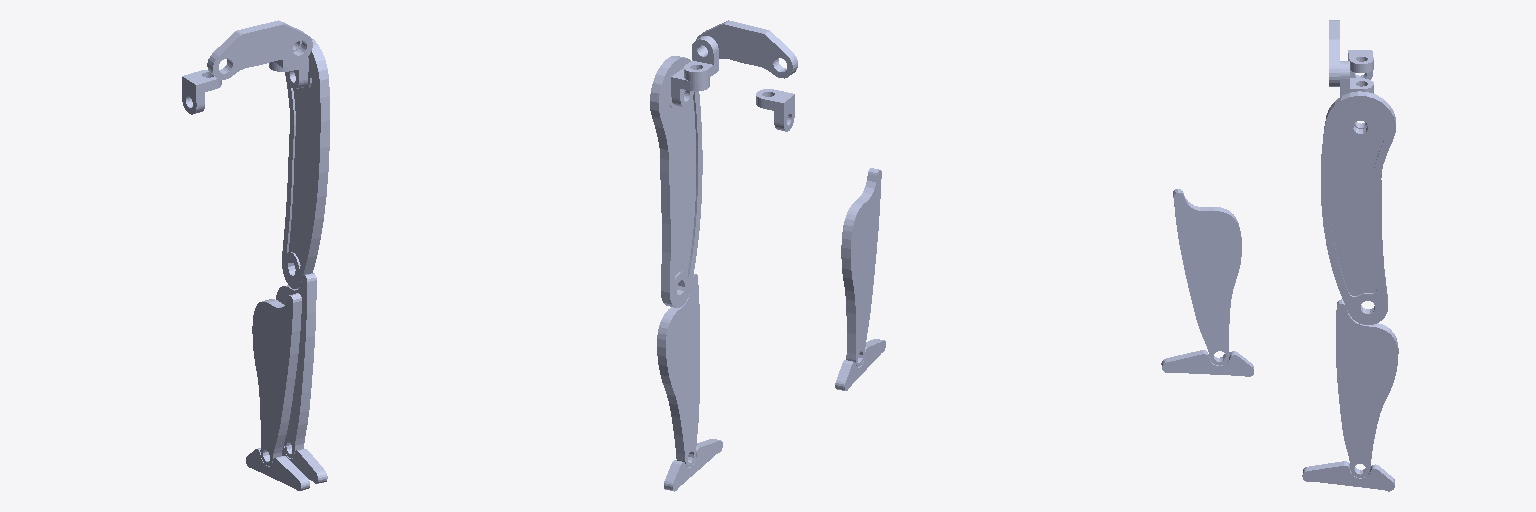
robot.urdf — bassie.SLDASM:
<?xml version="1.0" encoding="utf-8"?>
<!-- This URDF was automatically created by SolidWorks to URDF Exporter! Originally created by [author] ([email redacted]) 
     Commit Version: 1.6.0-4-g7f85cfe  Build Version: 1.6.7995.38578
     For more information, please see http://wiki.ros.org/sw_urdf_exporter -->
<robot
  name="bassie.SLDASM">
  <link
    name="pelvis">
    <inertial>
      <origin
        xyz="-8.71510553850297E-19 -0.005 -0.00141371227400464"
        rpy="0 0 0" />
      <mass
        value="0.0303722995490468" />
      <inertia
        ixx="3.74394993207704E-06"
        ixy="5.11178856466256E-23"
        ixz="7.80799469685778E-22"
        iyy="2.49329673185659E-05"
        iyz="-1.54583766458099E-22"
        izz="2.1695222378973E-05" />
    </inertial>
    <visual>
      <origin
        xyz="0 0 0"
        rpy="0 0 0" />
      <geometry>
        <mesh
          filename="package://bassie.SLDASM/meshes/pelvis.STL" />
      </geometry>
      <material
        name="">
        <color
          rgba="0.792156862745098 0.819607843137255 0.933333333333333 1" />
      </material>
    </visual>
    <collision>
      <origin
        xyz="0 0 0"
        rpy="0 0 0" />
      <geometry>
        <mesh
          filename="package://bassie.SLDASM/meshes/pelvis.STL" />
      </geometry>
    </collision>
  </link>
  <link
    name="right_hip_a">
    <inertial>
      <origin
        xyz="0 -0.0110100876761759 -0.0109899123238241"
        rpy="0 0 0" />
      <mass
        value="0.0104219467105846" />
      <inertia
        ixx="1.70463571115033E-06"
        ixy="-3.68095372586097E-23"
        ixz="-2.34505703658783E-22"
        iyy="1.38650049834199E-06"
        iyz="-3.73929543448507E-07"
        izz="1.386500498342E-06" />
    </inertial>
    <visual>
      <origin
        xyz="0 0 0"
        rpy="0 0 0" />
      <geometry>
        <mesh
          filename="package://bassie.SLDASM/meshes/right_hip_a.STL" />
      </geometry>
      <material
        name="">
        <color
          rgba="0.792156862745098 0.819607843137255 0.933333333333333 1" />
      </material>
    </visual>
    <collision>
      <origin
        xyz="0 0 0"
        rpy="0 0 0" />
      <geometry>
        <mesh
          filename="package://bassie.SLDASM/meshes/right_hip_a.STL" />
      </geometry>
    </collision>
  </link>
  <joint
    name="right_hip_roll"
    type="revolute">
    <origin
      xyz="-0.0398271658880066 0 -0.00930710361371741"
      rpy="1.5707963267949 -0.00503265783860925 0" />
    <parent
      link="pelvis" />
    <child
      link="right_hip_a" />
    <axis
      xyz="0 0 1" />
    <limit
      lower="-1"
      upper="1"
      effort="100"
      velocity="100" />
  </joint>
  <link
    name="right_hip_b">
    <inertial>
      <origin
        xyz="6.93889390390723E-18 -0.0110100876761759 -0.010989051191167"
        rpy="0 0 0" />
      <mass
        value="0.0104219467105846" />
      <inertia
        ixx="1.70463571115033E-06"
        ixy="-1.45583787809333E-22"
        ixz="-9.53271488868967E-23"
        iyy="1.38650049834199E-06"
        iyz="-3.73929543448507E-07"
        izz="1.386500498342E-06" />
    </inertial>
    <visual>
      <origin
        xyz="0 0 0"
        rpy="0 0 0" />
      <geometry>
        <mesh
          filename="package://bassie.SLDASM/meshes/right_hip_b.STL" />
      </geometry>
      <material
        name="">
        <color
          rgba="0.792156862745098 0.819607843137255 0.933333333333333 1" />
      </material>
    </visual>
    <collision>
      <origin
        xyz="0 0 0"
        rpy="0 0 0" />
      <geometry>
        <mesh
          filename="package://bassie.SLDASM/meshes/right_hip_b.STL" />
      </geometry>
    </collision>
  </link>
  <joint
    name="right_hip_pitch"
    type="revolute">
    <origin
      xyz="0 -0.0220008611326573 -0.0219999999999999"
      rpy="-1.57079632679503 -1.49330843492653 0" />
    <parent
      link="right_hip_a" />
    <child
      link="right_hip_b" />
    <axis
      xyz="0 0 1" />
    <limit
      lower="-1"
      upper="1"
      effort="100"
      velocity="100" />
  </joint>
  <link
    name="right_upper_leg">
    <inertial>
      <origin
        xyz="-0.00592586158781309 -0.0525800795674847 0.0617044572537044"
        rpy="0 0 0" />
      <mass
        value="0.107018899099017" />
      <inertia
        ixx="0.00059179926724669"
        ixy="1.59874782272895E-08"
        ixz="-1.27083232085629E-08"
        iyy="0.000308153017538767"
        iyz="0.000258492128476062"
        izz="0.000284954745396214" />
    </inertial>
    <visual>
      <origin
        xyz="0 0 0"
        rpy="0 0 0" />
      <geometry>
        <mesh
          filename="package://bassie.SLDASM/meshes/right_upper_leg.STL" />
      </geometry>
      <material
        name="">
        <color
          rgba="0.792156862745098 0.819607843137255 0.933333333333333 1" />
      </material>
    </visual>
    <collision>
      <origin
        xyz="0 0 0"
        rpy="0 0 0" />
      <geometry>
        <mesh
          filename="package://bassie.SLDASM/meshes/right_upper_leg.STL" />
      </geometry>
    </collision>
  </link>
  <joint
    name="right_hip_yaw"
    type="revolute">
    <origin
      xyz="0 -0.0210679578739459 -0.0219991388673428"
      rpy="1.47617469063059 0 1.5707963267949" />
    <parent
      link="right_hip_b" />
    <child
      link="right_upper_leg" />
    <axis
      xyz="1 0 0" />
    <limit
      lower="-2"
      upper="2"
      effort="100"
      velocity="100" />
  </joint>
  <link
    name="right_lower_leg">
    <inertial>
      <origin
        xyz="-0.00593203877881651 -0.084602786670183 0.00168892856089956"
        rpy="0 0 0" />
      <mass
        value="0.0744483044847864" />
      <inertia
        ixx="0.000164660010918706"
        ixy="-4.61372645241211E-12"
        ixz="1.49207452474512E-11"
        iyy="1.77016873193822E-05"
        iyz="-3.96688103484342E-06"
        izz="0.000148199128403157" />
    </inertial>
    <visual>
      <origin
        xyz="0 0 0"
        rpy="0 0 0" />
      <geometry>
        <mesh
          filename="package://bassie.SLDASM/meshes/right_lower_leg.STL" />
      </geometry>
      <material
        name="">
        <color
          rgba="0.792156862745098 0.819607843137255 0.933333333333333 1" />
      </material>
    </visual>
    <collision>
      <origin
        xyz="0 0 0"
        rpy="0 0 0" />
      <geometry>
        <mesh
          filename="package://bassie.SLDASM/meshes/right_lower_leg.STL" />
      </geometry>
    </collision>
  </link>
  <joint
    name="right_knee"
    type="revolute">
    <origin
      xyz="0 -0.14142135623731 0.141421356237308"
      rpy="0.177493987253612 0 0" />
    <parent
      link="right_upper_leg" />
    <child
      link="right_lower_leg" />
    <axis
      xyz="1 0 0" />
    <limit
      lower="-2"
      upper="2"
      effort="100"
      velocity="100" />
  </joint>
  <link
    name="right_foot">
    <inertial>
      <origin
        xyz="-0.00593204212605349 -0.0117377956787896 0.00934592910539234"
        rpy="0 0 0" />
      <mass
        value="0.0141163998019807" />
      <inertia
        ixx="9.24279911044944E-06"
        ixy="-1.02570395956575E-22"
        ixz="-7.53396101913298E-21"
        iyy="8.95233915878566E-06"
        iyz="1.01243243186786E-07"
        izz="5.25733281696791E-07" />
    </inertial>
    <visual>
      <origin
        xyz="0 0 0"
        rpy="0 0 0" />
      <geometry>
        <mesh
          filename="package://bassie.SLDASM/meshes/right_foot.STL" />
      </geometry>
      <material
        name="">
        <color
          rgba="0.792156862745098 0.819607843137255 0.933333333333333 1" />
      </material>
    </visual>
    <collision>
      <origin
        xyz="0 0 0"
        rpy="0 0 0" />
      <geometry>
        <mesh
          filename="package://bassie.SLDASM/meshes/right_foot.STL" />
      </geometry>
    </collision>
  </link>
  <joint
    name="right_ankle"
    type="revolute">
    <origin
      xyz="0 -0.18 0"
      rpy="-0.17083 0 0" />
    <parent
      link="right_lower_leg" />
    <child
      link="right_foot" />
    <axis
      xyz="1 0 0" />
    <limit
      lower="-2"
      upper="2"
      effort="100"
      velocity="100" />
  </joint>
  <link
    name="left_hip_a">
    <inertial>
      <origin
        xyz="-6.93889390390723E-17 -0.0110100876761757 -0.0109899123238245"
        rpy="0 0 0" />
      <mass
        value="0.0104219467105846" />
      <inertia
        ixx="1.70463571115033E-06"
        ixy="-2.90505831128623E-21"
        ixz="-2.52124650706163E-21"
        iyy="1.386500498342E-06"
        iyz="-3.73929543448508E-07"
        izz="1.386500498342E-06" />
    </inertial>
    <visual>
      <origin
        xyz="0 0 0"
        rpy="0 0 0" />
      <geometry>
        <mesh
          filename="package://bassie.SLDASM/meshes/left_hip_a.STL" />
      </geometry>
      <material
        name="">
        <color
          rgba="0.792156862745098 0.819607843137255 0.933333333333333 1" />
      </material>
    </visual>
    <collision>
      <origin
        xyz="0 0 0"
        rpy="0 0 0" />
      <geometry>
        <mesh
          filename="package://bassie.SLDASM/meshes/left_hip_a.STL" />
      </geometry>
    </collision>
  </link>
  <joint
    name="left_hip_roll"
    type="revolute">
    <origin
      xyz="0.0398271658880066 0 -0.0093071036137174"
      rpy="1.5707963267949 0.0363921544175496 0" />
    <parent
      link="pelvis" />
    <child
      link="left_hip_a" />
    <axis
      xyz="0 0 1" />
    <limit
      lower="-1"
      upper="1"
      effort="100"
      velocity="100" />
  </joint>
  <link
    name="left_hip_b">
    <inertial>
      <origin
        xyz="4.5102810375397E-17 -0.0110100876761759 -0.012256176562566"
        rpy="0 0 0" />
      <mass
        value="0.0104219467105846" />
      <inertia
        ixx="1.70463571115033E-06"
        ixy="-2.94476298068878E-22"
        ixz="-4.40212329912787E-22"
        iyy="1.386500498342E-06"
        iyz="-3.73929543448508E-07"
        izz="1.386500498342E-06" />
    </inertial>
    <visual>
      <origin
        xyz="0 0 0"
        rpy="0 0 0" />
      <geometry>
        <mesh
          filename="package://bassie.SLDASM/meshes/left_hip_b.STL" />
      </geometry>
      <material
        name="">
        <color
          rgba="0.792156862745098 0.819607843137255 0.933333333333333 1" />
      </material>
    </visual>
    <collision>
      <origin
        xyz="0 0 0"
        rpy="0 0 0" />
      <geometry>
        <mesh
          filename="package://bassie.SLDASM/meshes/left_hip_b.STL" />
      </geometry>
    </collision>
  </link>
  <joint
    name="left_hip_pitch"
    type="revolute">
    <origin
      xyz="0 -0.020733735761258 -0.0220000000000004"
      rpy="-1.57079632679482 1.53550175224418 0" />
    <parent
      link="left_hip_a" />
    <child
      link="left_hip_b" />
    <axis
      xyz="0 0 1" />
    <limit
      lower="-1"
      upper="1"
      effort="100"
      velocity="100" />
  </joint>
  <link
    name="left_upper_leg">
    <inertial>
      <origin
        xyz="0.00992113926367044 -0.052576667884697 0.0616946676041554"
        rpy="0 0 0" />
      <mass
        value="0.107042315965997" />
      <inertia
        ixx="0.000591805368935049"
        ixy="1.62243521030409E-08"
        ixz="-1.28844984492373E-08"
        iyy="0.000308162853350037"
        iyz="0.000258499935393855"
        izz="0.000284951019517356" />
    </inertial>
    <visual>
      <origin
        xyz="0 0 0"
        rpy="0 0 0" />
      <geometry>
        <mesh
          filename="package://bassie.SLDASM/meshes/left_upper_leg.STL" />
      </geometry>
      <material
        name="">
        <color
          rgba="0.792156862745098 0.819607843137255 0.933333333333333 1" />
      </material>
    </visual>
    <collision>
      <origin
        xyz="0 0 0"
        rpy="0 0 0" />
      <geometry>
        <mesh
          filename="package://bassie.SLDASM/meshes/left_upper_leg.STL" />
      </geometry>
    </collision>
  </link>
  <joint
    name="left_hip_yaw"
    type="revolute">
    <origin
      xyz="0 -0.0170842012602752 -0.0232662642387418"
      rpy="2.39179817705173 0 -1.5707963267949" />
    <parent
      link="left_hip_b" />
    <child
      link="left_upper_leg" />
    <axis
      xyz="1 0 0" />
    <limit
      lower="-2"
      upper="2"
      effort="100"
      velocity="100" />
  </joint>
  <link
    name="left_lower_leg">
    <inertial>
      <origin
        xyz="0.00991580198399055 -0.0846028137555248 0.00168890478392084"
        rpy="0 0 0" />
      <mass
        value="0.0744483650191621" />
      <inertia
        ixx="0.000164651177342366"
        ixy="-1.45541977598533E-11"
        ixz="1.67295198779219E-11"
        iyy="1.77024289130364E-05"
        iyz="-3.96427641840745E-06"
        izz="0.000148189551457772" />
    </inertial>
    <visual>
      <origin
        xyz="0 0 0"
        rpy="0 0 0" />
      <geometry>
        <mesh
          filename="package://bassie.SLDASM/meshes/left_lower_leg.STL" />
      </geometry>
      <material
        name="">
        <color
          rgba="0.792156862745098 0.819607843137255 0.933333333333333 1" />
      </material>
    </visual>
    <collision>
      <origin
        xyz="0 0 0"
        rpy="0 0 0" />
      <geometry>
        <mesh
          filename="package://bassie.SLDASM/meshes/left_lower_leg.STL" />
      </geometry>
    </collision>
  </link>
  <joint
    name="left_knee"
    type="revolute">
    <origin
      xyz="0 -0.14142 0.14142"
      rpy="-0.86226 0 0" />
    <parent
      link="left_upper_leg" />
    <child
      link="left_lower_leg" />
    <axis
      xyz="1 0 0" />
    <limit
      lower="-2"
      upper="2"
      effort="100"
      velocity="100" />
  </joint>
  <link
    name="left_foot">
    <inertial>
      <origin
        xyz="0.00791285680589386 -0.0117377956787891 0.00934592910539232"
        rpy="0 0 0" />
      <mass
        value="0.0141163998019808" />
      <inertia
        ixx="9.24279911044945E-06"
        ixy="-6.28657265540301E-23"
        ixz="1.68248536593286E-21"
        iyy="8.95233915878567E-06"
        iyz="1.01243243186784E-07"
        izz="5.25733281696794E-07" />
    </inertial>
    <visual>
      <origin
        xyz="0 0 0"
        rpy="0 0 0" />
      <geometry>
        <mesh
          filename="package://bassie.SLDASM/meshes/left_foot.STL" />
      </geometry>
      <material
        name="">
        <color
          rgba="0.792156862745098 0.819607843137255 0.933333333333333 1" />
      </material>
    </visual>
    <collision>
      <origin
        xyz="0 0 0"
        rpy="0 0 0" />
      <geometry>
        <mesh
          filename="package://bassie.SLDASM/meshes/left_foot.STL" />
      </geometry>
    </collision>
  </link>
  <joint
    name="left_ankle"
    type="revolute">
    <origin
      xyz="0.0020029 -0.18 0"
      rpy="-0.074785 0 0" />
    <parent
      link="left_lower_leg" />
    <child
      link="left_foot" />
    <axis
      xyz="1 0 0" />
    <limit
      lower="-2"
      upper="2"
      effort="100"
      velocity="100" />
  </joint>
</robot>

--- Render facts (derived) ---
Views: 3 orthographic renders of the robot side by side, from view 1: azimuth 30°, elevation 25°; view 2: azimuth 150°, elevation 25°; view 3: azimuth 270°, elevation 25°.
Model bassie.SLDASM with 11 links and 10 joints (10 revolute), rooted at pelvis, posed all joints at 0.
Visible links, largest first — view 1: left_upper_leg, right_lower_leg, pelvis, left_lower_leg, right_foot, right_hip_b, left_foot, left_hip_b; view 2: left_upper_leg, left_lower_leg, right_lower_leg, pelvis, left_hip_a, left_foot, right_hip_b, right_foot, left_hip_b; view 3: left_upper_leg, right_lower_leg, left_lower_leg, left_foot, right_foot, pelvis, right_hip_b, left_hip_a.
Link boxes in pixels (x1,y1,x2,y2): left_upper_leg: [282, 37, 329, 288]; right_lower_leg: [252, 293, 301, 465]; pelvis: [207, 20, 312, 79]; left_lower_leg: [276, 273, 316, 458]; right_foot: [246, 448, 309, 490]; right_hip_b: [182, 70, 221, 114]; left_foot: [282, 446, 327, 483]; left_hip_b: [269, 57, 308, 88]; left_upper_leg: [650, 56, 702, 307]; left_lower_leg: [657, 274, 699, 466]; right_lower_leg: [841, 168, 881, 366]; pelvis: [696, 20, 797, 78]; left_hip_a: [684, 36, 718, 81]; left_foot: [664, 439, 722, 491]; right_hip_b: [756, 89, 794, 131]; right_foot: [835, 339, 885, 390]; left_hip_b: [671, 68, 709, 107]; left_upper_leg: [1321, 91, 1395, 324]; right_lower_leg: [1173, 189, 1241, 365]; left_lower_leg: [1336, 299, 1398, 477]; left_foot: [1302, 461, 1394, 491]; right_foot: [1161, 350, 1253, 376]; pelvis: [1329, 20, 1339, 86]; right_hip_b: [1348, 50, 1373, 79]; left_hip_a: [1340, 61, 1373, 96].
Bounding box of the posed robot: 0.1345 × 0.2347 × 0.4773 m (x, y, z).
Meshes: 11 distinct files referenced, 9 mesh visuals loaded (9 binary STL); not drawn: 2 (reference not matched to a file when rendering).
